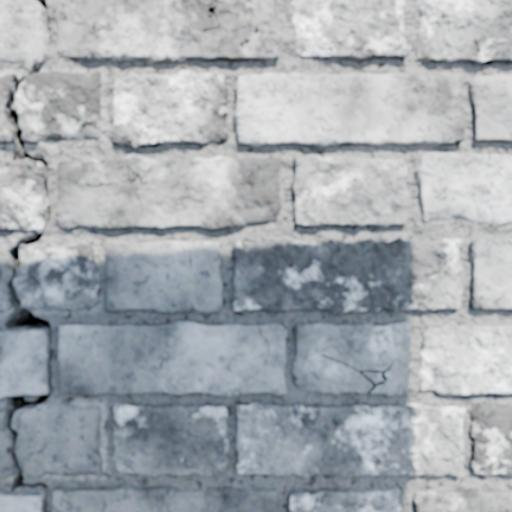brick: (232, 239, 462, 314), (235, 73, 465, 147), (236, 403, 464, 476), (56, 155, 280, 229), (59, 323, 285, 395), (56, 0, 279, 62), (112, 72, 228, 147), (292, 324, 411, 394), (112, 405, 228, 476), (106, 241, 221, 312), (293, 156, 408, 227), (291, 0, 409, 60), (416, 154, 511, 226), (420, 323, 511, 394), (415, 0, 511, 64), (53, 486, 278, 511), (0, 160, 46, 231), (0, 331, 47, 398), (470, 405, 511, 476), (470, 75, 511, 143), (471, 240, 511, 309), (0, 0, 44, 61), (290, 490, 400, 511), (413, 490, 511, 511), (0, 492, 42, 511), (201, 0, 212, 2)
broken_brick: (13, 402, 102, 479), (15, 71, 102, 144), (15, 241, 100, 310), (0, 73, 16, 144), (0, 243, 15, 311), (0, 408, 13, 480)
crack: (2, 0, 54, 511), (321, 354, 394, 394), (197, 0, 229, 34), (257, 325, 271, 366), (454, 90, 465, 100), (280, 323, 287, 330)
